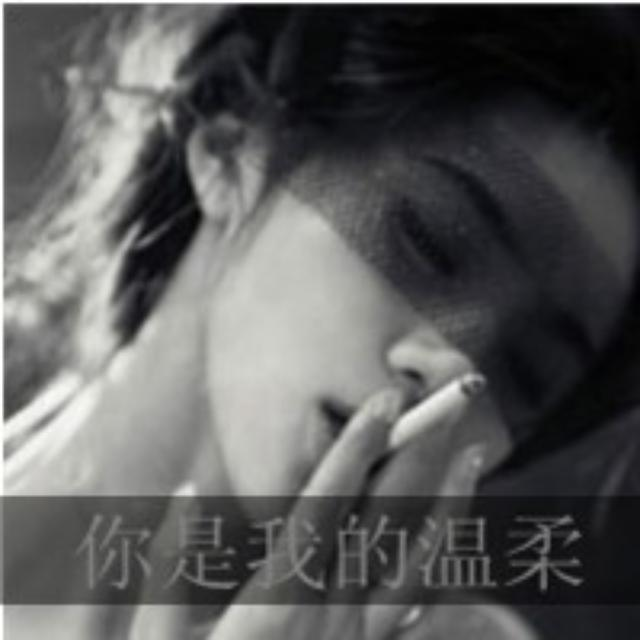Cigarette: (390, 368, 486, 454)
